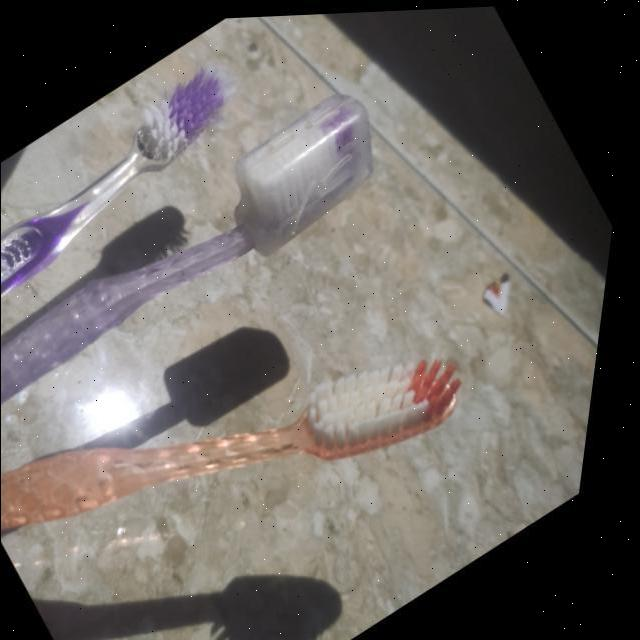toothbrush: (0, 64, 402, 419), (0, 338, 492, 550), (0, 40, 239, 310)
